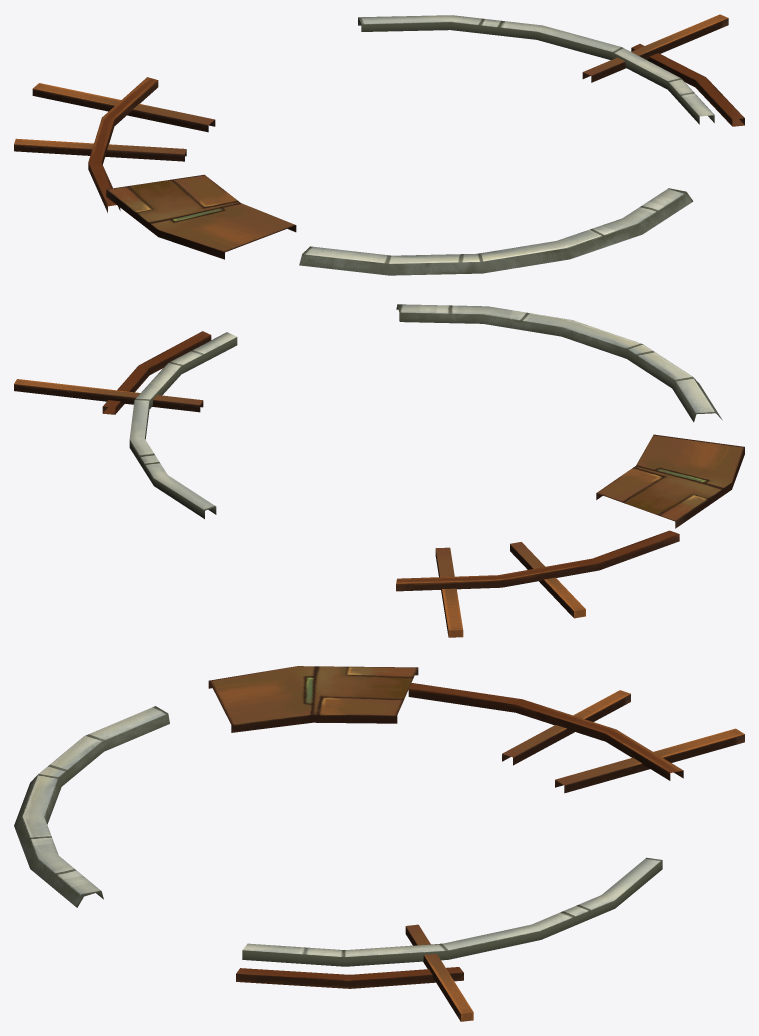
File: Koto_rim.fbx
3 renders of one model, top to bottom at view 1: azimuth 30°, elevation 25°; view 2: azimuth 150°, elevation 25°; view 3: azimuth 270°, elevation 25°, orthographic. The views are drawn at different scales.
Parts seen in each view (by area): view 1: polySurface728; view 2: polySurface728; view 3: polySurface728.
Boxes of the visible parts, x1,y1,x2,y2 form: polySurface728: (14,14,744,275); polySurface728: (14,304,744,637); polySurface728: (14,666,744,1021).
Bounding box in the file's own units: 92.6 × 4.32 × 82.07.
